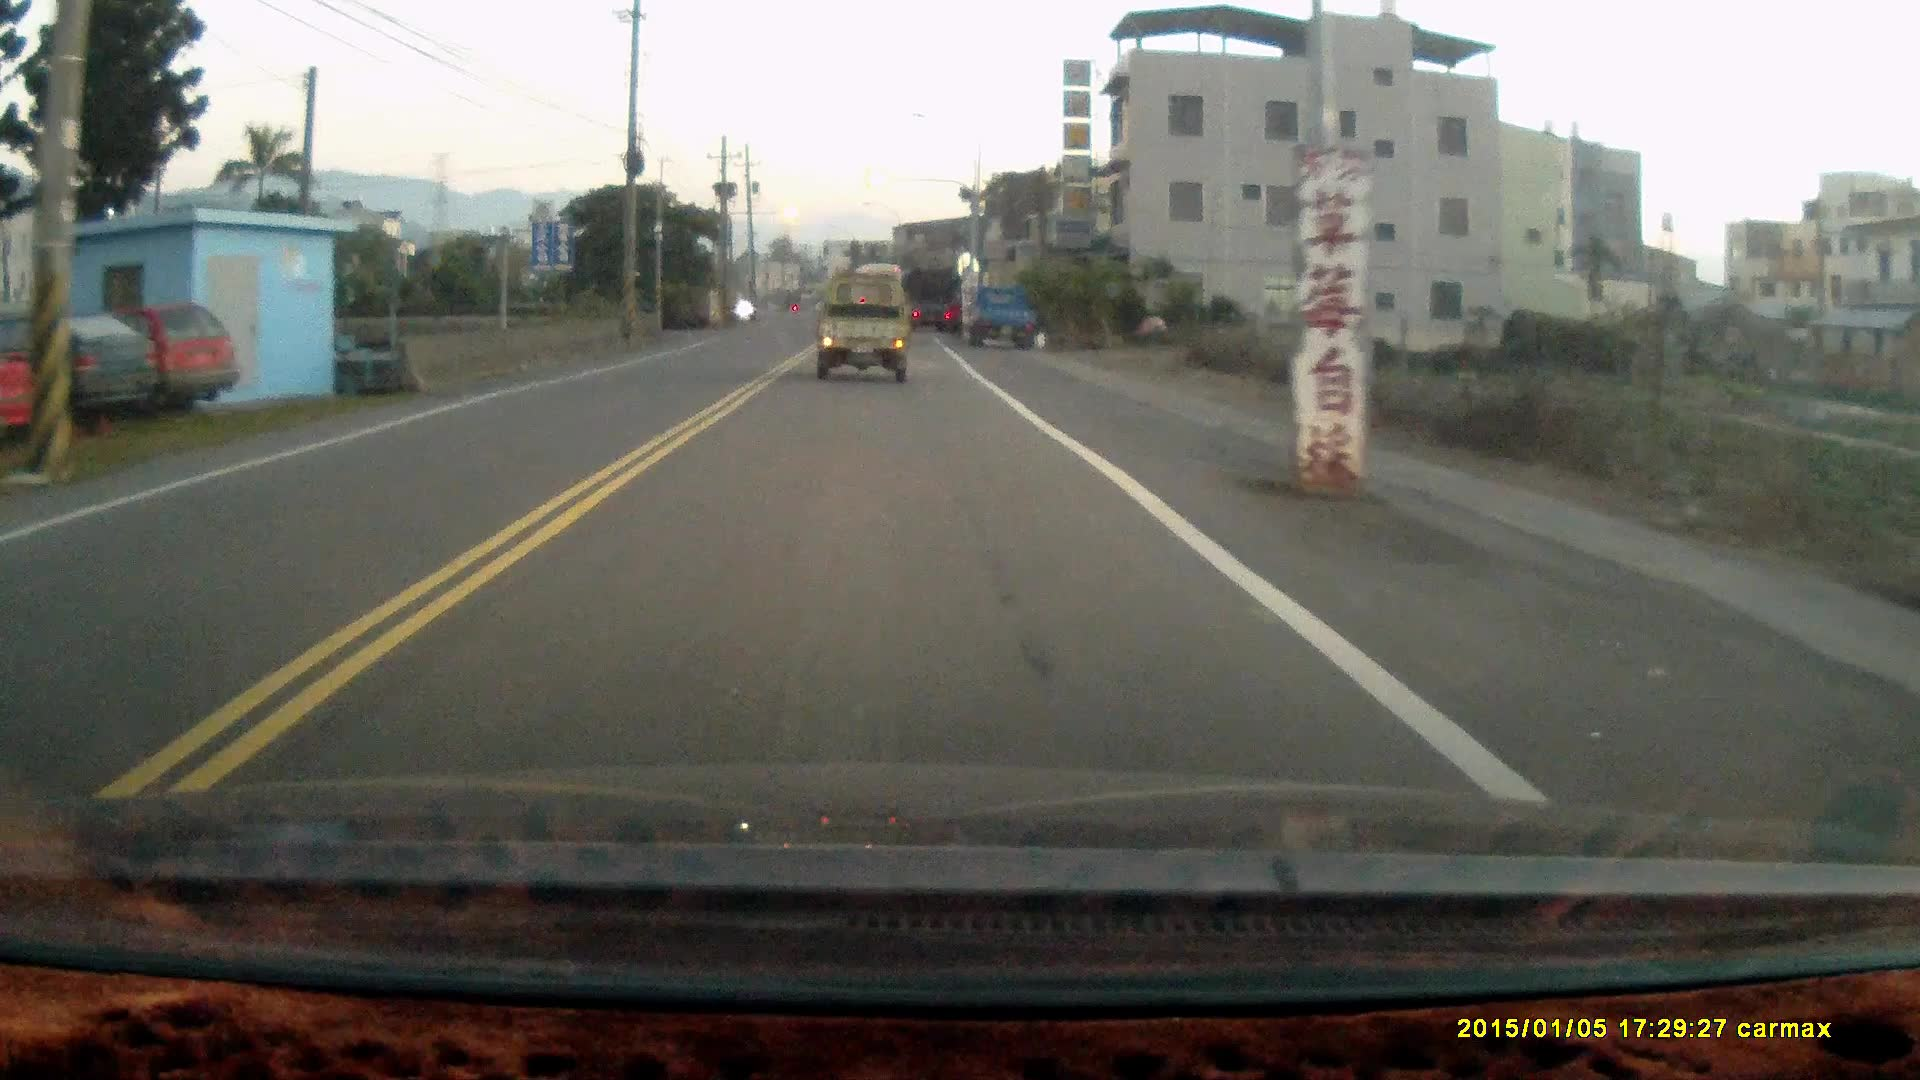vehicle: (24, 301, 232, 413), (3, 303, 170, 434), (815, 276, 916, 378), (963, 290, 1043, 352), (901, 268, 963, 335)
